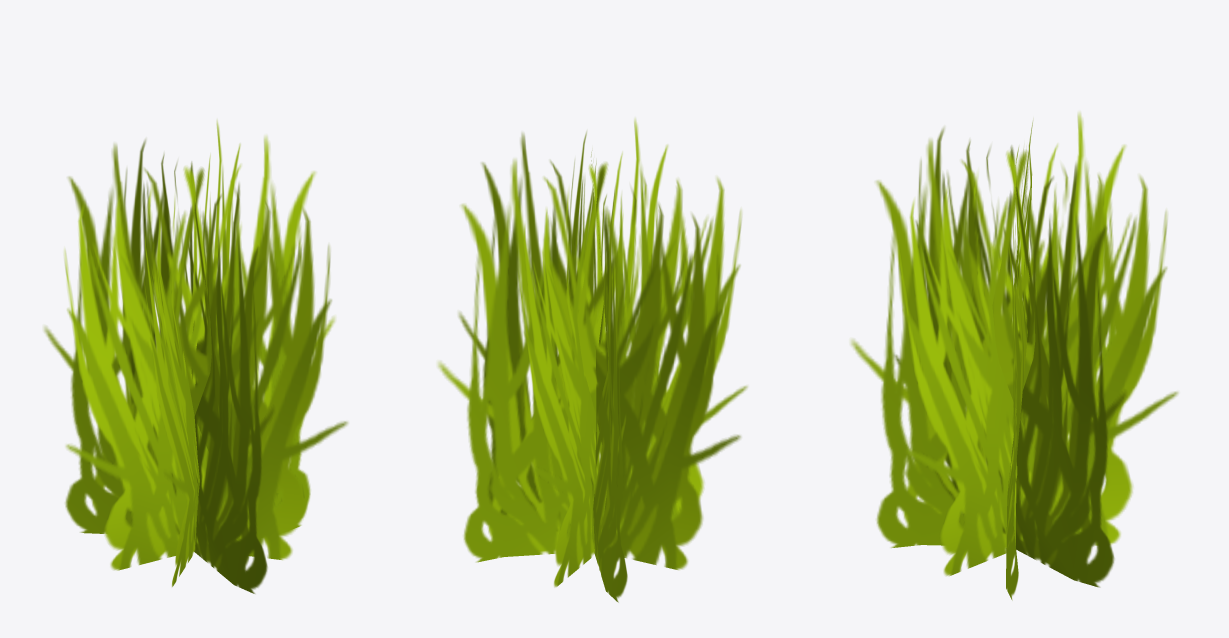
The model's file is grass.glb.
3 views of the same model, side by side, from view 1: azimuth 30°, elevation 25°; view 2: azimuth 150°, elevation 25°; view 3: azimuth 270°, elevation 25° (orthographic). The views are drawn at different scales.
Parts seen in each view (by area): view 1: grass_mesh; view 2: grass_mesh; view 3: grass_mesh.
Part boxes in pixels (x1,y1,x2,y2): grass_mesh: (44,120,347,593); grass_mesh: (438,118,747,602); grass_mesh: (851,112,1178,600).
Size of the model in its own units: 0.6241 by 0.8637 by 0.625.
Materials: 1 (1 with a texture image).
